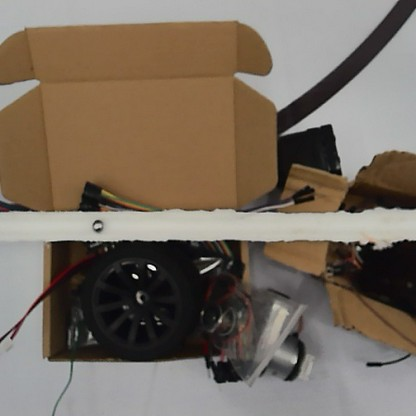ironball: (89, 216, 104, 233)
